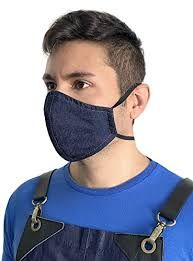with-mask: (38, 27, 151, 161)
